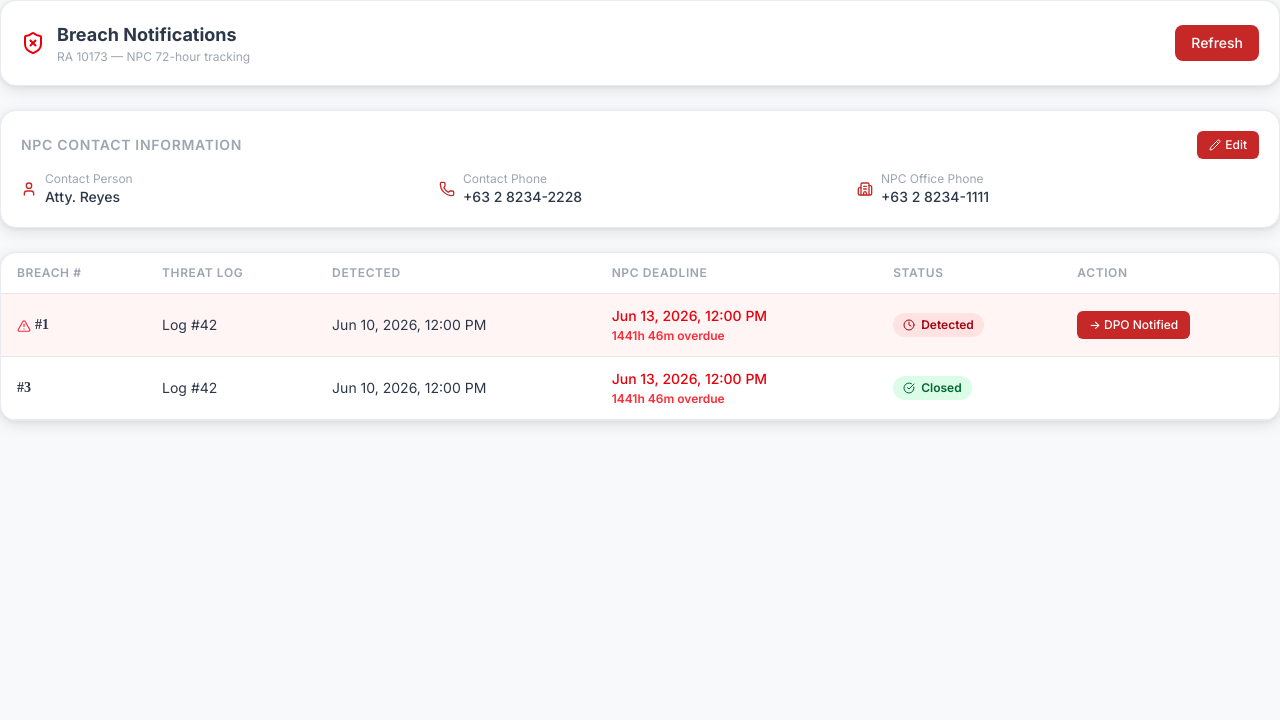
Test: Breach Notifications Page › closes confirmation modal on cancel without advancing
Click the button with test id "advance-breach-1" at {"x": 1134, "y": 325}, box [1077,311,1190,339]
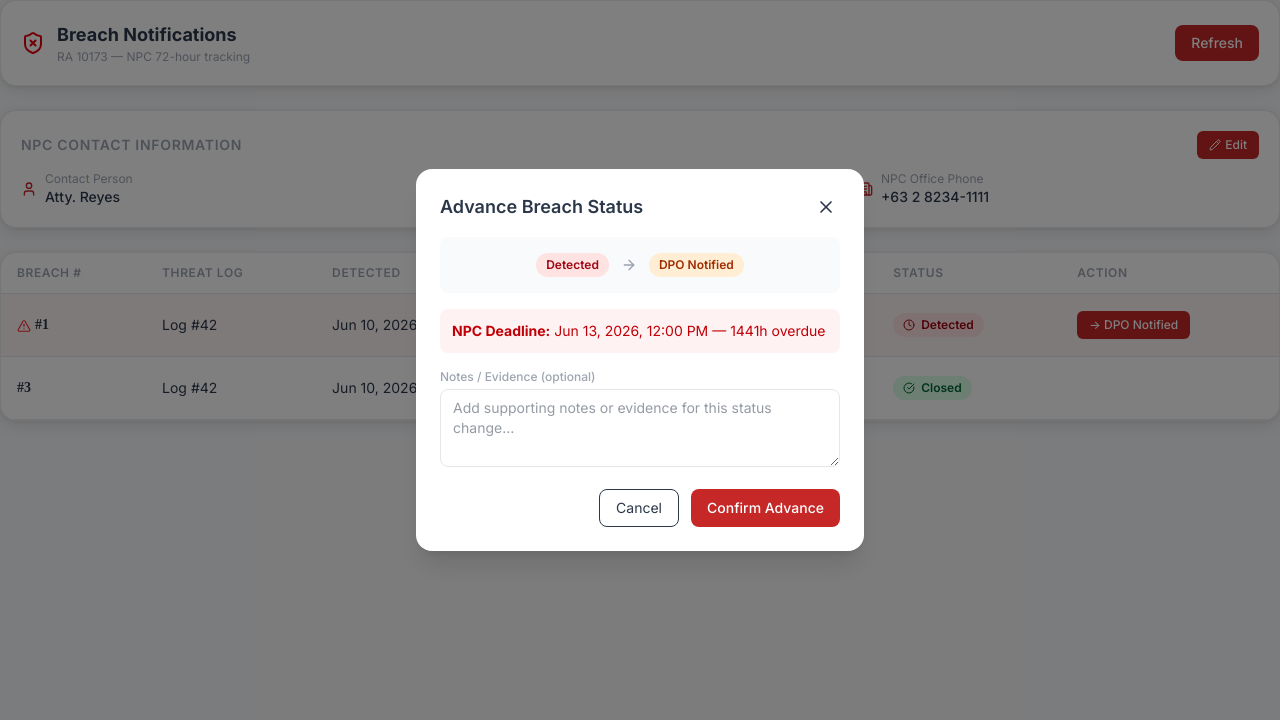
Now the button with test id "advance-modal-cancel" is shown
Click the button with test id "advance-modal-cancel" at {"x": 639, "y": 508}, box [599,489,679,527]
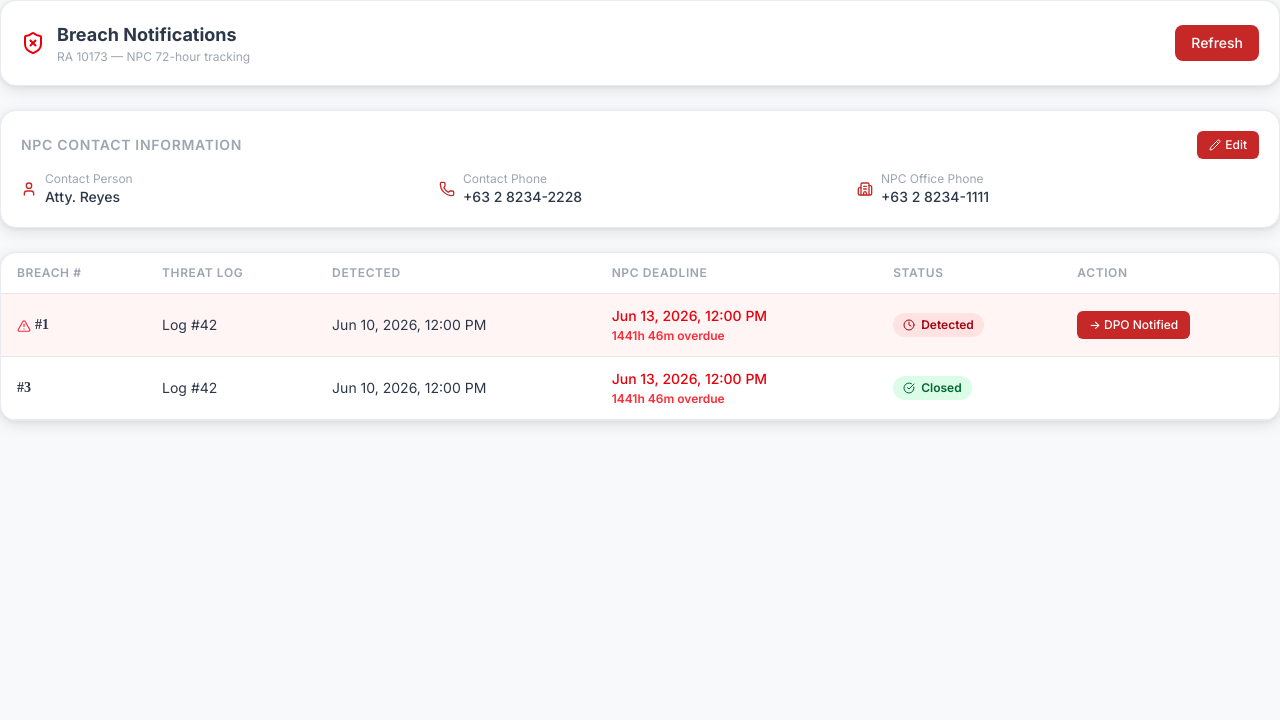
Now the button with test id "advance-modal-confirm" is gone
